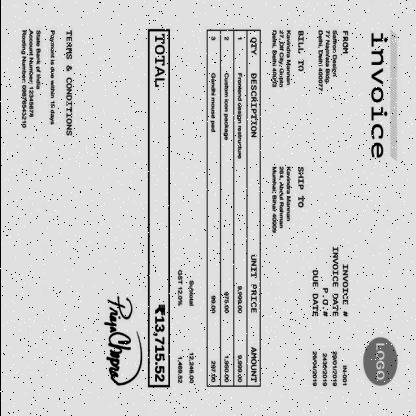Paragraph: (17, 25, 74, 140), (310, 244, 350, 388), (150, 31, 166, 384), (368, 31, 389, 159), (174, 266, 196, 386), (270, 164, 304, 234), (316, 27, 349, 92), (271, 28, 304, 90)
Table: (206, 30, 260, 386)
